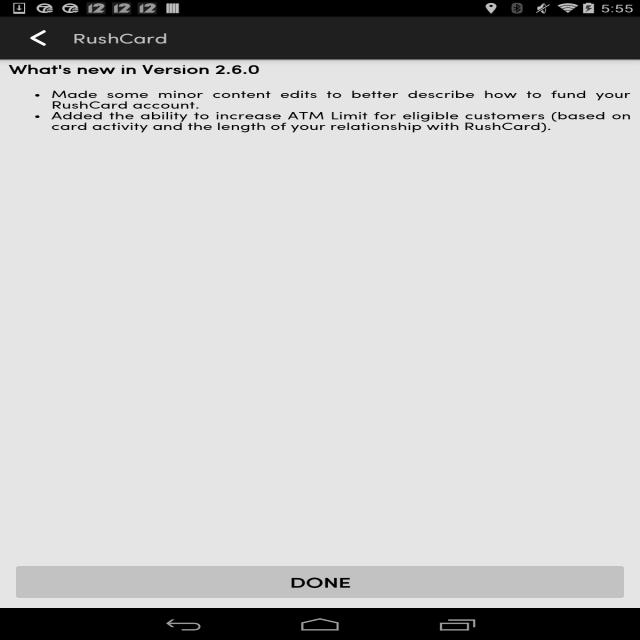Button: (6, 561, 631, 602)
ImageButton: (23, 26, 58, 52)
TextView: (30, 86, 629, 134), (1, 60, 267, 80), (68, 28, 178, 48)
